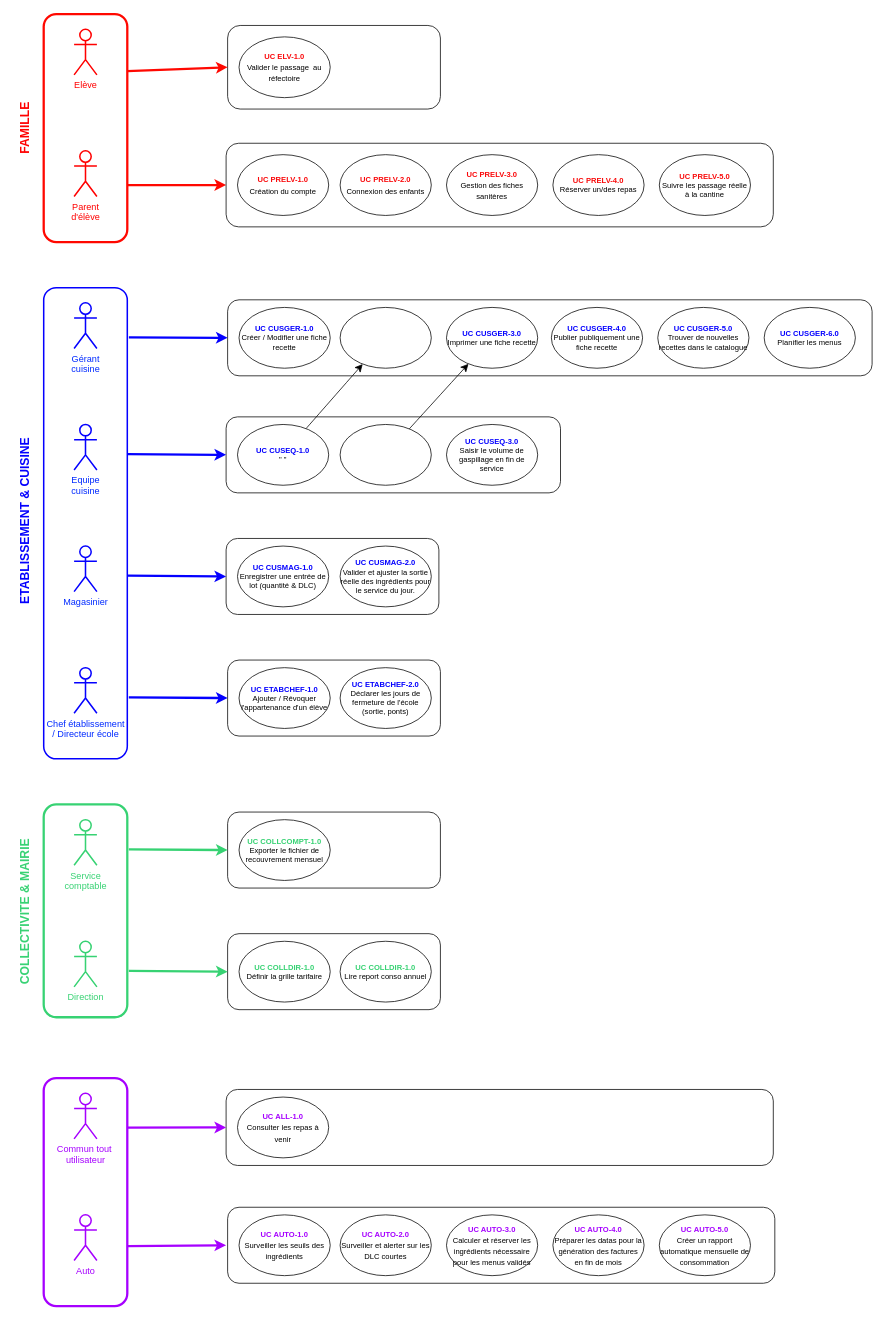
Image size: 885x1320. Some labels were removed from this diagram. Here are the shapes that lost their labels. From the top down, the box of each, then its label:
(339, 307, 431, 368): UC CUSGER-2.0 Lire une fiche recette
(339, 424, 431, 485): UC CUSEQ-2.0 " "
